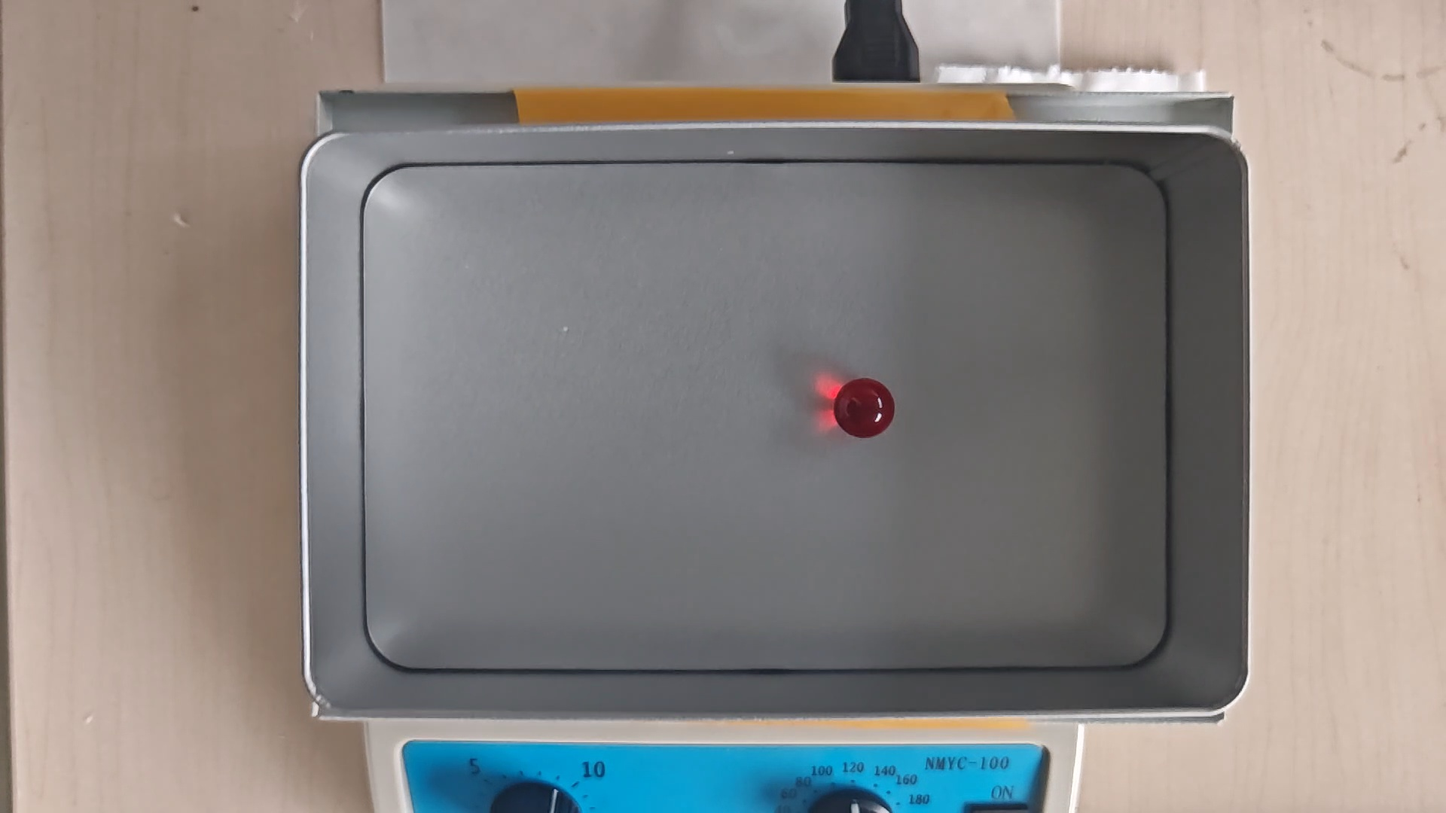ball: (834, 379, 895, 440)
container: (362, 163, 1169, 671)
